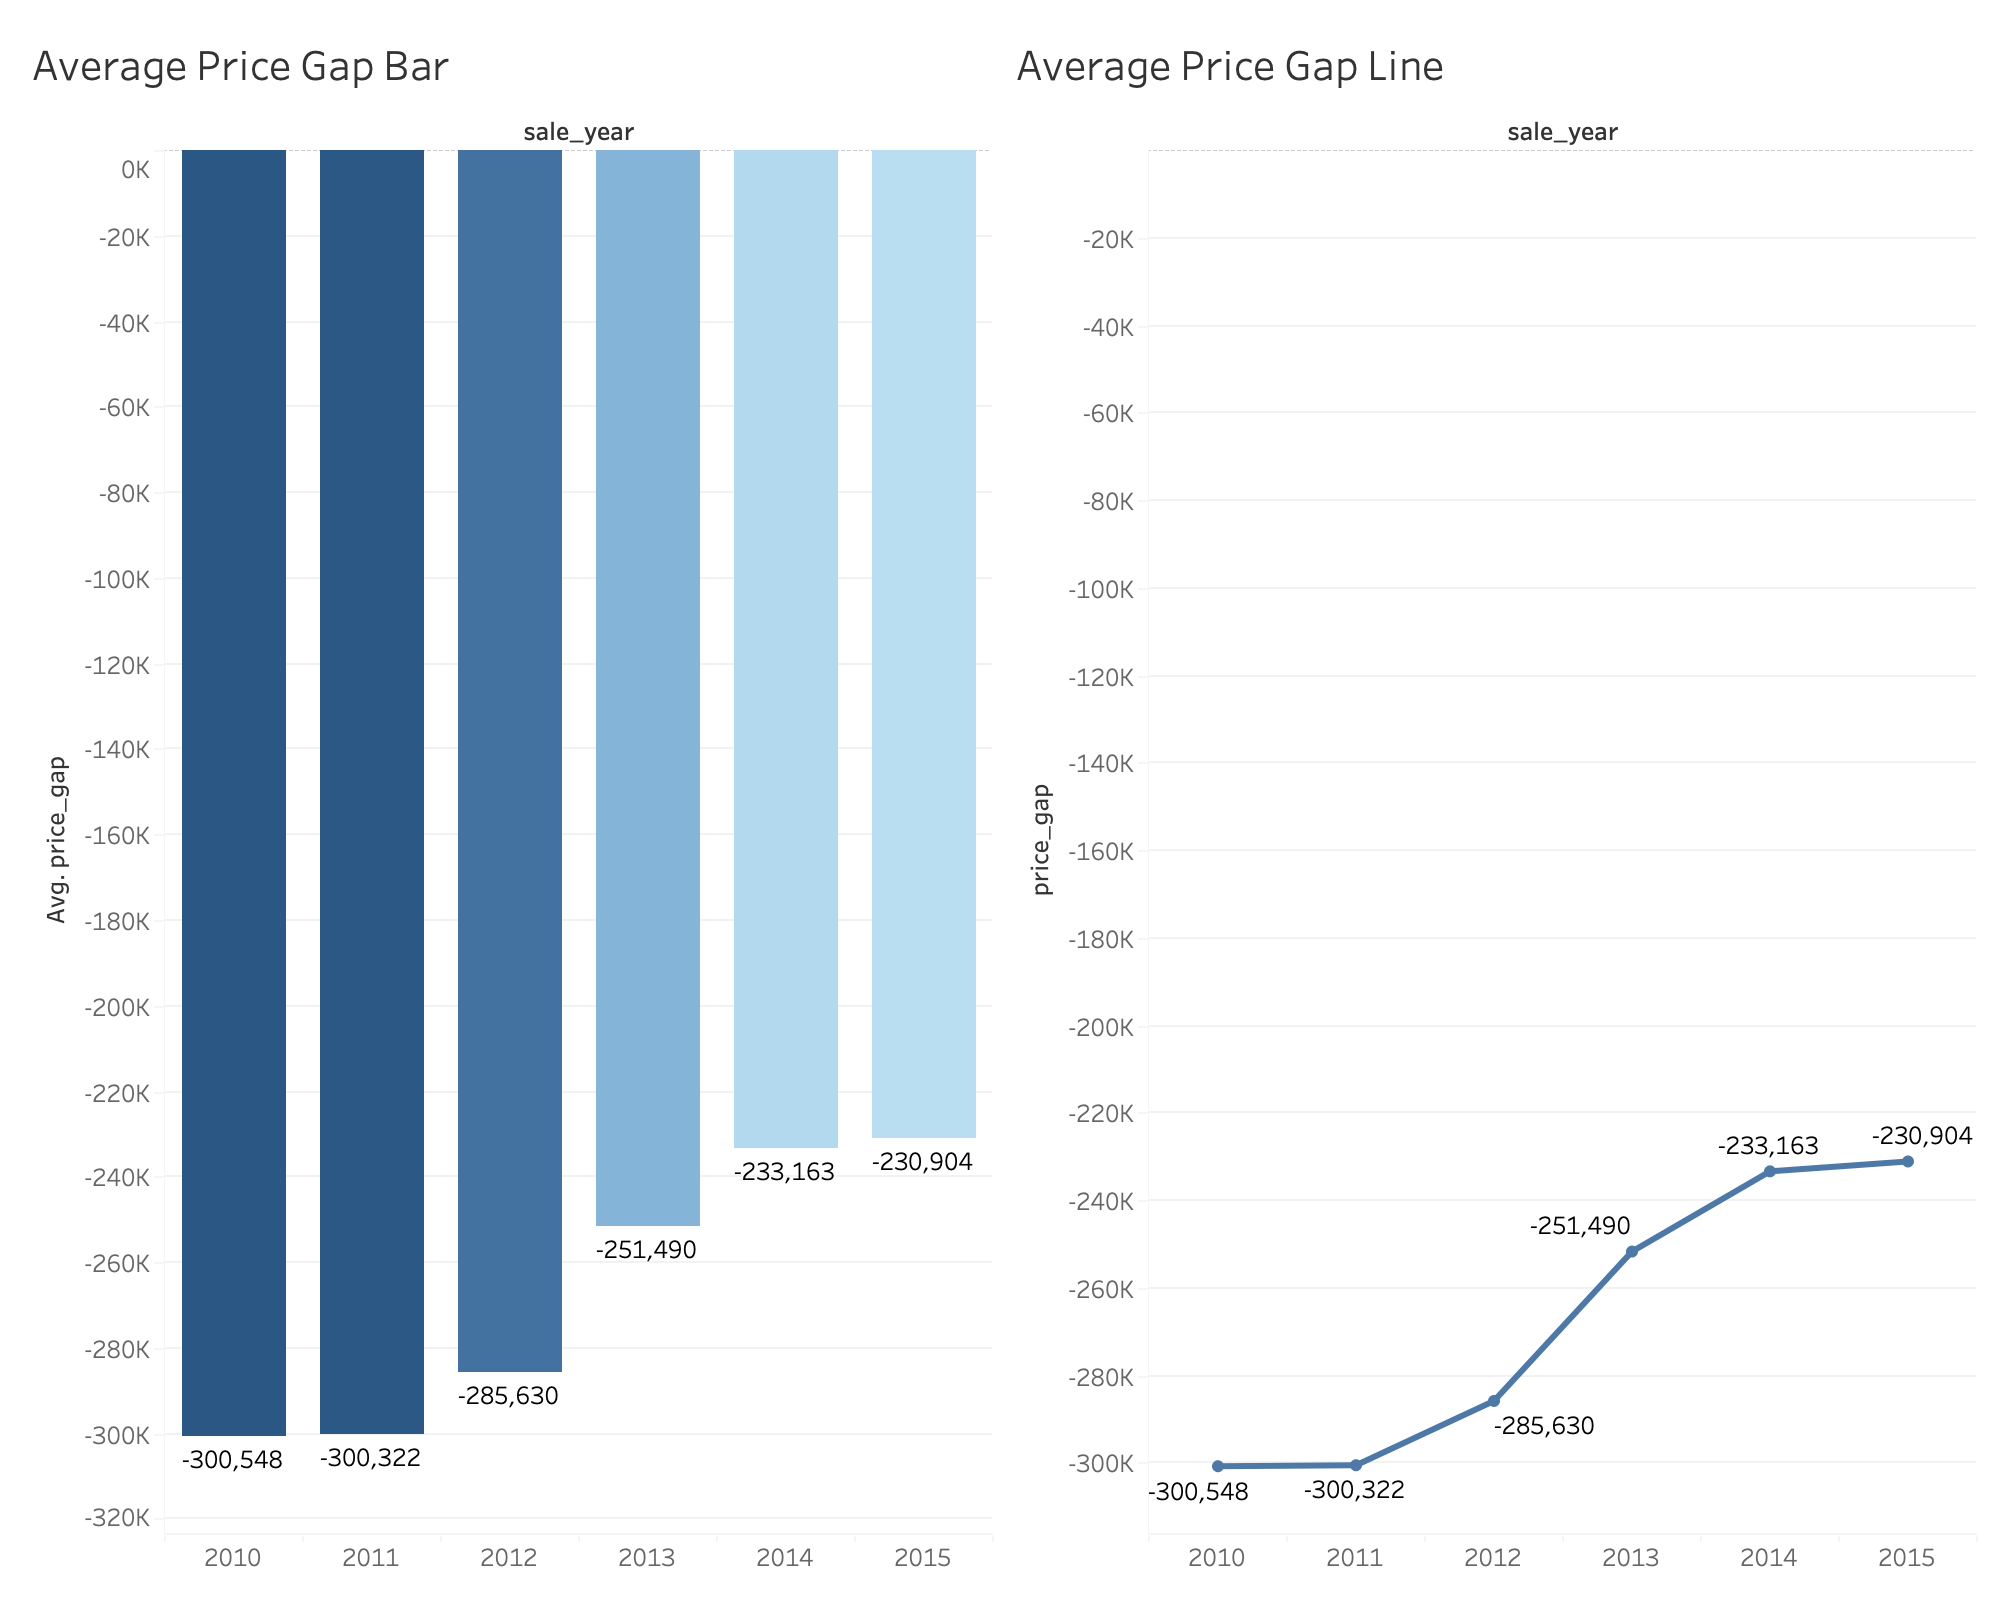

Layout of this report page (visuals, bound fields, positions):
{"tool":"tableau","page":{"name":"Dashboard 1","canvas":[1000,800],"ordinal":0},"visuals":[{"type":"worksheet","title":"Average Price Gap Bar","mark":"Bar","rows":["price_gap"],"cols":["sale_year"],"box":[8,8,492,784]},{"type":"worksheet","title":"Average Price Gap Line","mark":"Line","rows":["price_gap"],"cols":["sale_year"],"box":[500,8,492,784]}]}

Visuals, with their boxes in screenshot pixels (x1, y1, x2, y2), scaled from the page's 1000x800 canvas onto the 2000x1600 screenshot:
"Average Price Gap Bar" worksheet (Bar marks): {"x1": 16, "y1": 16, "x2": 1000, "y2": 1584}
"Average Price Gap Line" worksheet (Line marks): {"x1": 1000, "y1": 16, "x2": 1984, "y2": 1584}
